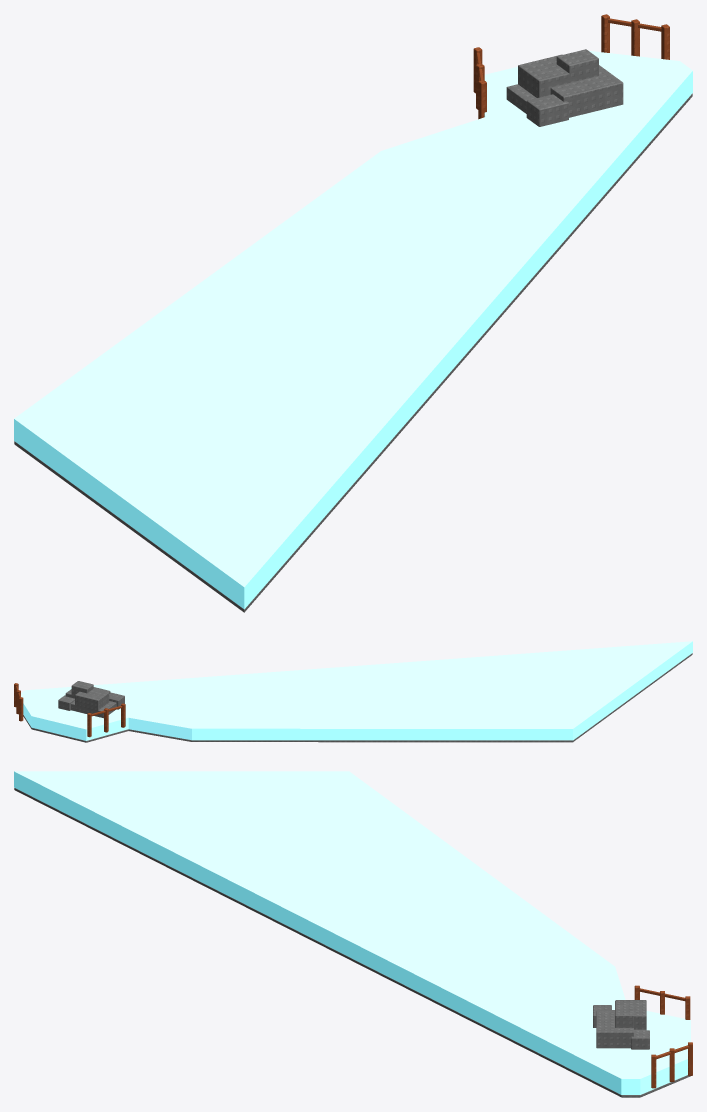
The model's file is Water.fbx.
The picture shows the model from 3 angles, top to bottom: view 1: azimuth 30°, elevation 25°; view 2: azimuth 150°, elevation 25°; view 3: azimuth 270°, elevation 25°; orthographic projection. The views are drawn at different scales.
Visible parts, largest first — view 1: WaterSurface, Bed, Stone1, Stone2, Stone0, Stone4, Stone3; view 2: WaterSurface, Bed, Stone2, Stone0, Stone3, Stone5; view 3: WaterSurface, Bed, Stone1.
Part boxes in pixels (x1=…): WaterSurface: x1=14, y1=51, x2=692, y2=609; Bed: x1=14, y1=93, x2=692, y2=612; Stone1: x1=550, y1=65, x2=623, y2=117; Stone2: x1=518, y1=54, x2=583, y2=97; Stone0: x1=506, y1=84, x2=623, y2=117; Stone4: x1=526, y1=94, x2=568, y2=126; Stone3: x1=556, y1=49, x2=598, y2=79; WaterSurface: x1=21, y1=641, x2=692, y2=740; Bed: x1=23, y1=653, x2=692, y2=742; Stone2: x1=75, y1=688, x2=109, y2=716; Stone0: x1=71, y1=701, x2=116, y2=718; Stone3: x1=71, y1=681, x2=93, y2=697; Stone5: x1=58, y1=695, x2=74, y2=710; WaterSurface: x1=14, y1=771, x2=690, y2=1094; Bed: x1=14, y1=788, x2=690, y2=1097; Stone1: x1=596, y1=1011, x2=633, y2=1048.
Bounding box in the file's own units: 115 × 8.3 × 107.
